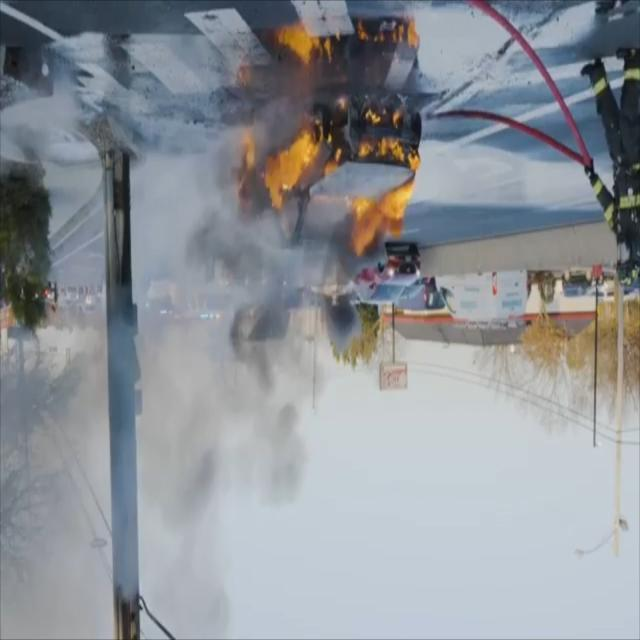fire: (240, 100, 424, 266), (270, 17, 416, 68)
